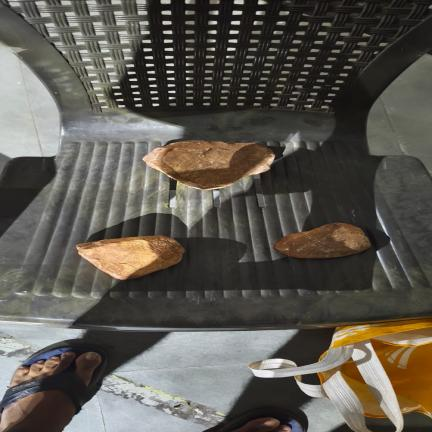Rocks: (144, 141, 274, 189), (77, 236, 184, 279), (275, 223, 370, 258)
